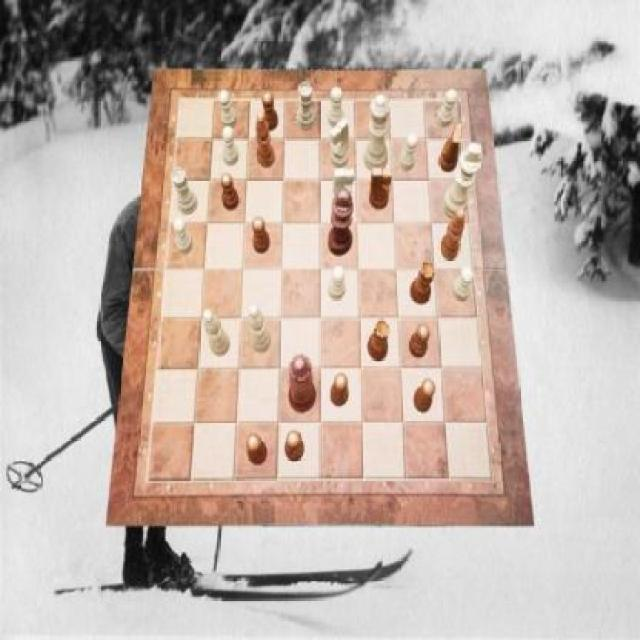bishop: (440, 208, 466, 262), (256, 111, 276, 168)
black-bishop: (329, 190, 354, 256)
black-king: (438, 125, 462, 172), (370, 168, 392, 210)
black-knight: (412, 379, 435, 413), (220, 172, 239, 210), (411, 323, 431, 358), (246, 434, 267, 466), (252, 217, 270, 253), (286, 431, 306, 463), (262, 92, 278, 132), (331, 372, 348, 407)
black-pawn: (289, 354, 317, 412)
black-queen: (412, 262, 437, 306), (368, 318, 390, 361)
black-rook: (203, 310, 230, 356), (248, 304, 270, 354)
white-bishop: (443, 142, 483, 219)
white-king: (329, 117, 348, 168), (332, 168, 355, 210)
white-knight: (218, 91, 238, 131), (452, 268, 475, 302), (436, 89, 456, 128), (174, 217, 194, 255), (398, 132, 418, 170), (328, 88, 344, 129), (223, 126, 239, 166), (328, 265, 345, 299)
white-pawn: (364, 94, 392, 171)
white-queen: (170, 169, 198, 217), (296, 81, 314, 130)
